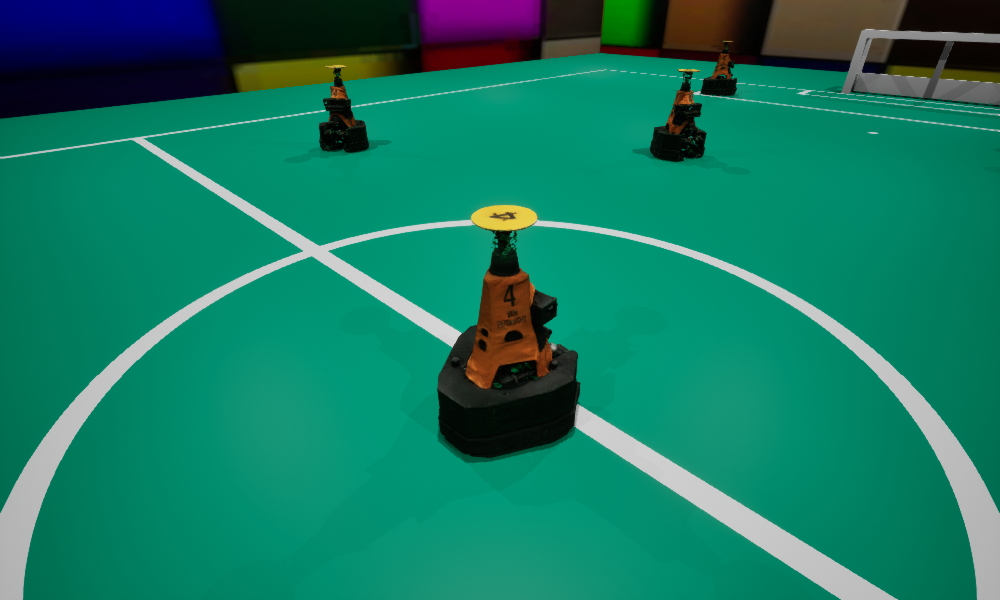o: (437, 205, 580, 457), (650, 69, 706, 161), (319, 65, 368, 151), (701, 41, 736, 95)
